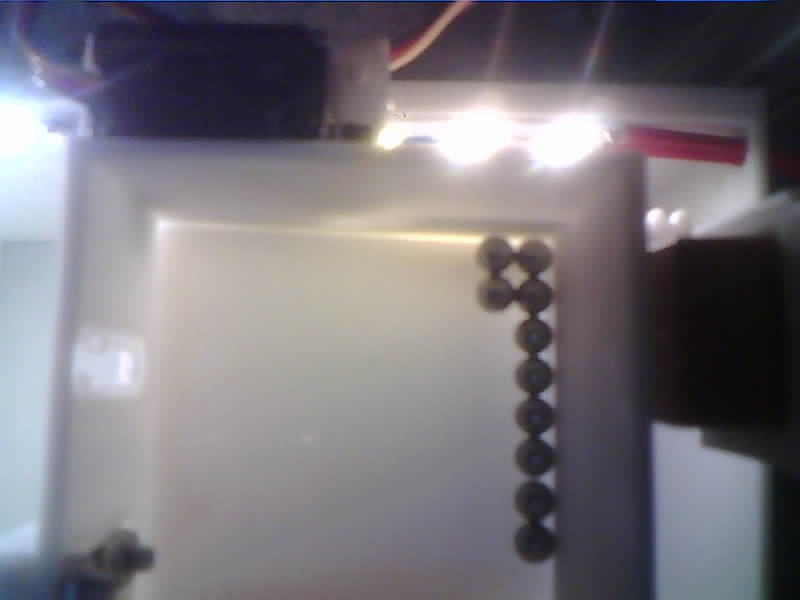Metal: (512, 437, 558, 479), (512, 522, 558, 564), (512, 481, 558, 522), (513, 239, 554, 280), (514, 355, 554, 396), (514, 398, 557, 436), (517, 279, 557, 317), (514, 317, 554, 355), (476, 276, 515, 314), (479, 240, 514, 276)
